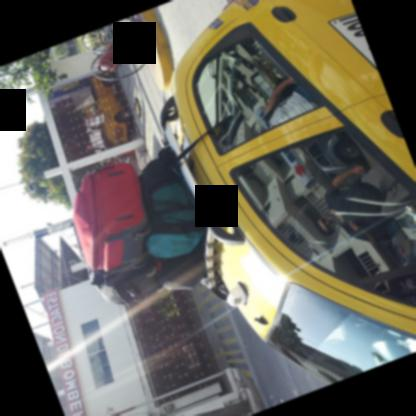backpack: (137, 113, 235, 260)
suitcase: (68, 161, 149, 270), (86, 255, 165, 303), (160, 243, 206, 288)
